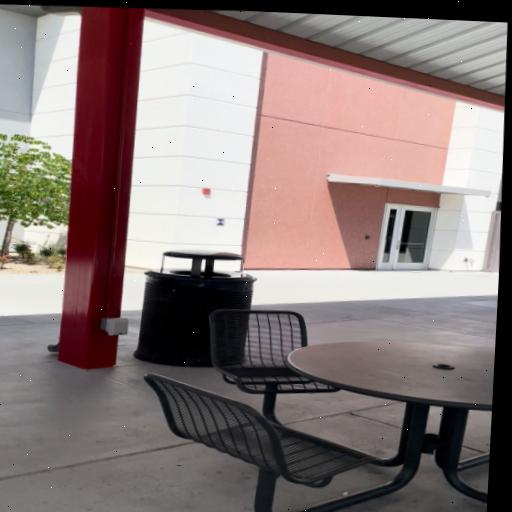target2: (215, 218, 226, 226)
